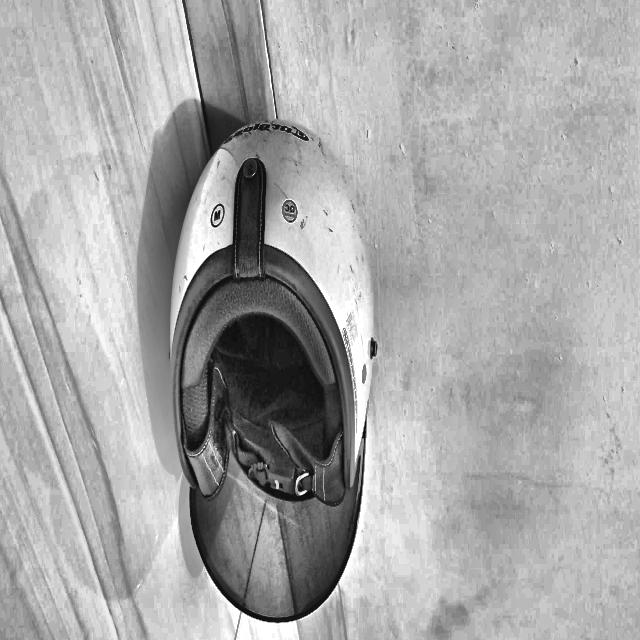Helmet: (325, 427, 621, 640)
